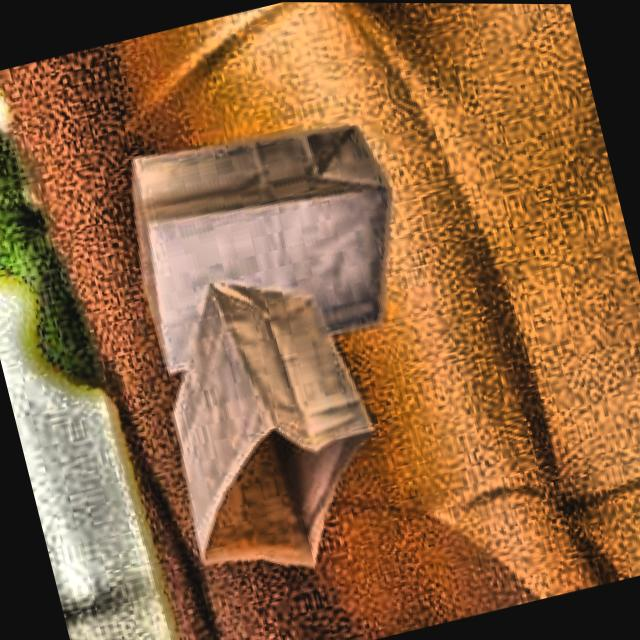Paper-bag: (110, 240, 422, 616), (76, 84, 435, 401)
